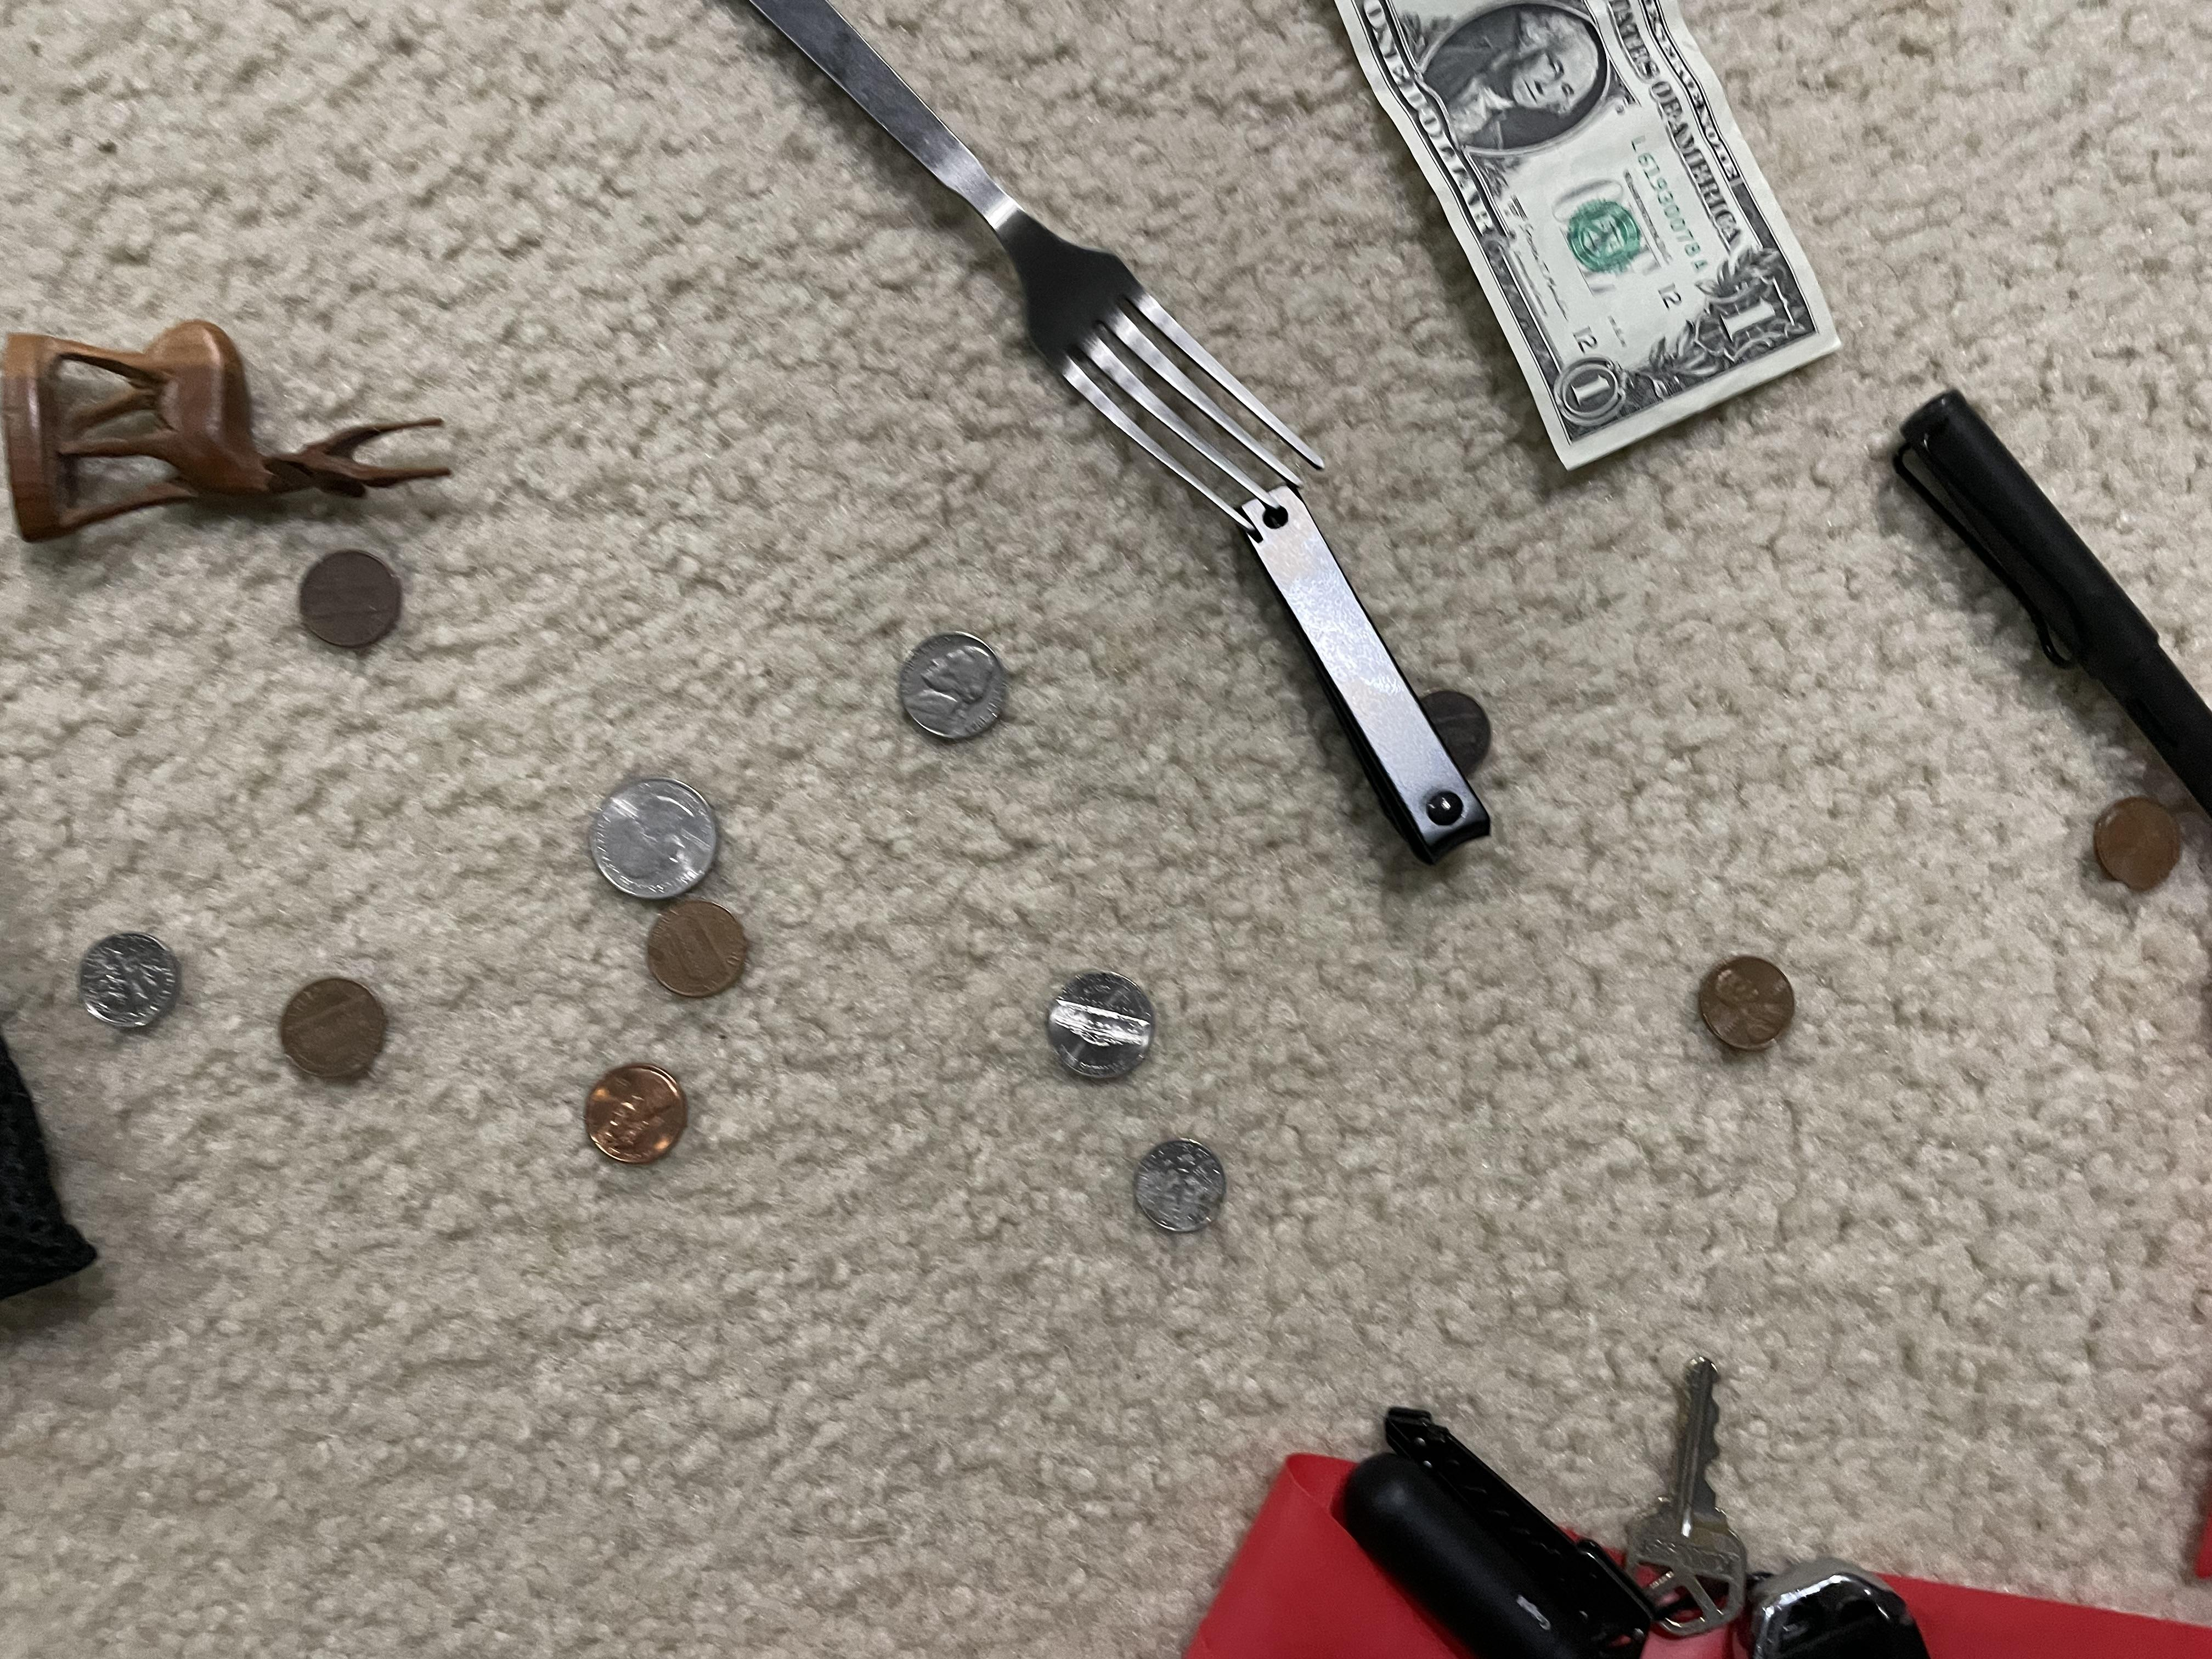Dime: (1120, 1140, 1266, 1239), (64, 927, 188, 1032)
Nickel: (881, 619, 1031, 756), (1035, 974, 1204, 1089)
OneBill: (1322, 2, 1867, 488)
Penny: (566, 1061, 718, 1185), (266, 974, 404, 1086), (291, 545, 428, 650), (1672, 957, 1811, 1060), (629, 896, 761, 1004), (2087, 795, 2186, 904)
Quarter: (585, 781, 726, 894)
